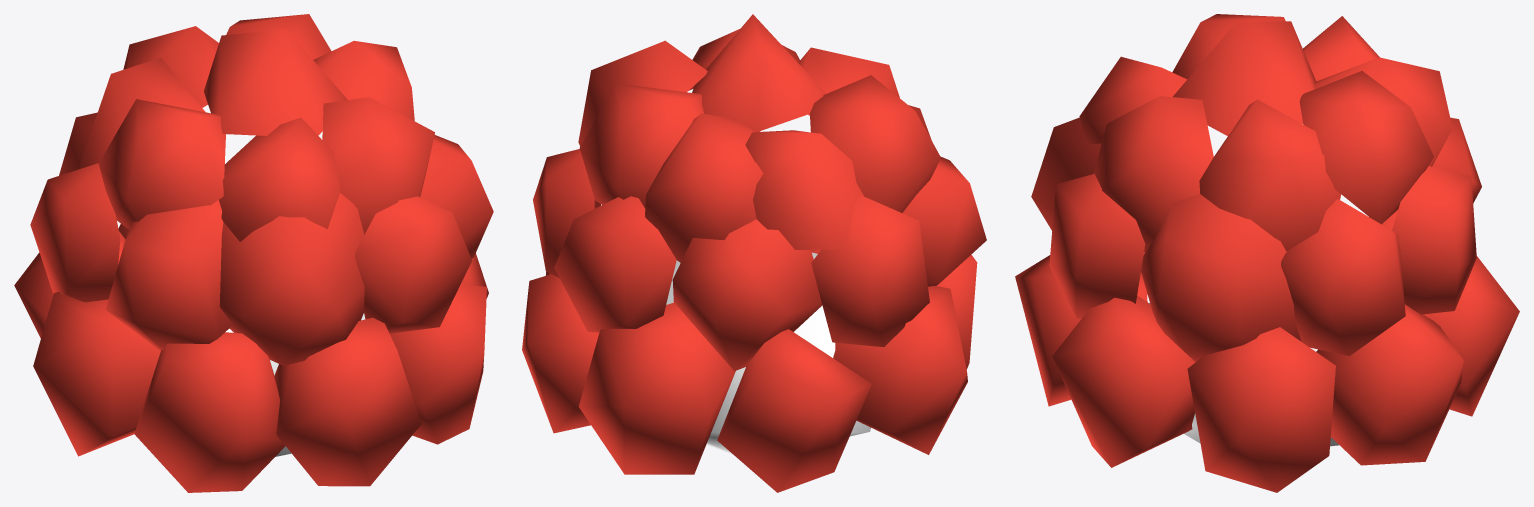
The model's file is raspberry_smooth.glb.
3 renders of one model, left to right at view 1: azimuth 30°, elevation 25°; view 2: azimuth 150°, elevation 25°; view 3: azimuth 270°, elevation 25°, orthographic. The views are drawn at different scales.
Parts seen in each view (by area): view 1: Icosphere.001_Icosphere.003; view 2: Icosphere.001_Icosphere.003; view 3: Icosphere.001_Icosphere.003.
Boxes of the visible parts, x1,y1,x2,y2 form: Icosphere.001_Icosphere.003: (14,14,493,492); Icosphere.001_Icosphere.003: (522,14,986,492); Icosphere.001_Icosphere.003: (1015,14,1519,492).
Bounding box in the file's own units: 11.73 × 10.03 × 11.59.
